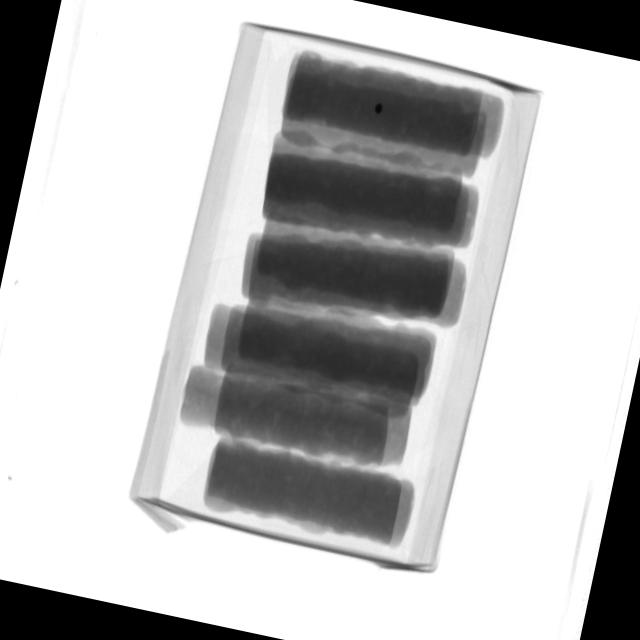ym: (374, 105, 384, 115)
